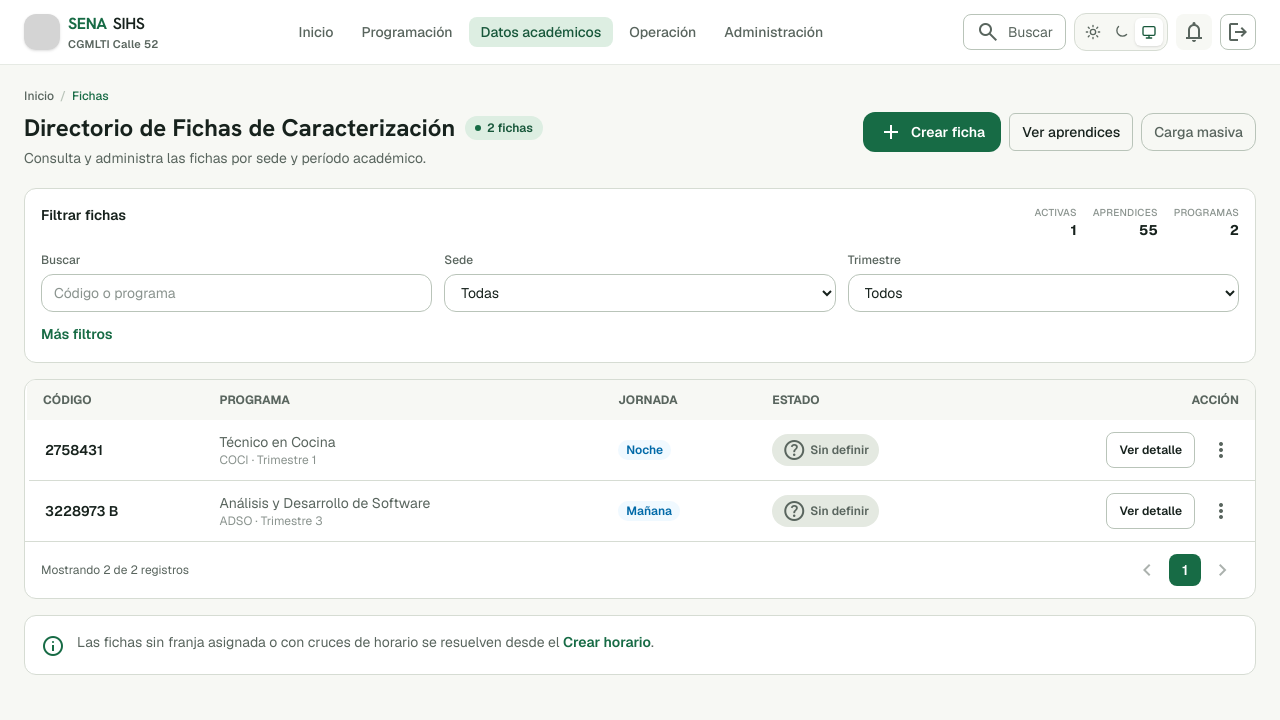
Test: Fichas › muestra instructores/temas/ambientes derivados de los horarios de la ficha
Click the text "3228973 B".
click(115, 511)  # box [27,480,204,541]
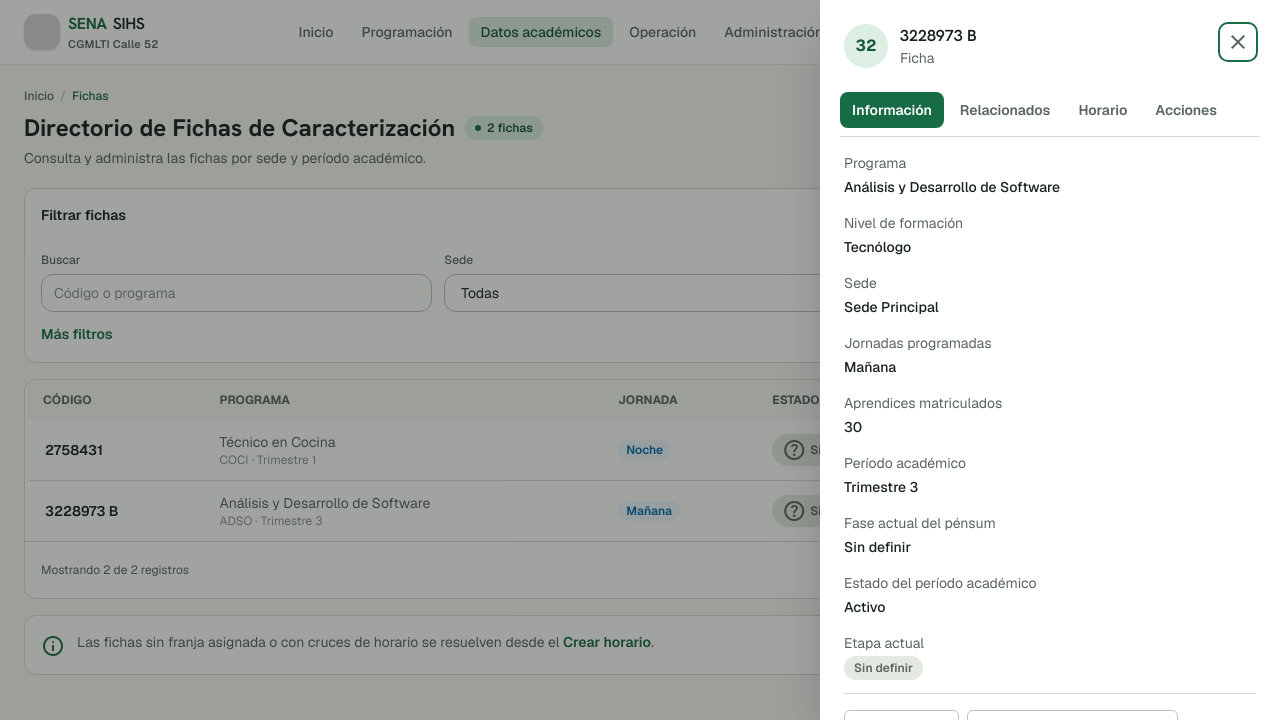
Click the tab "Relacionados".
click(1005, 110)  # box [948,92,1062,128]
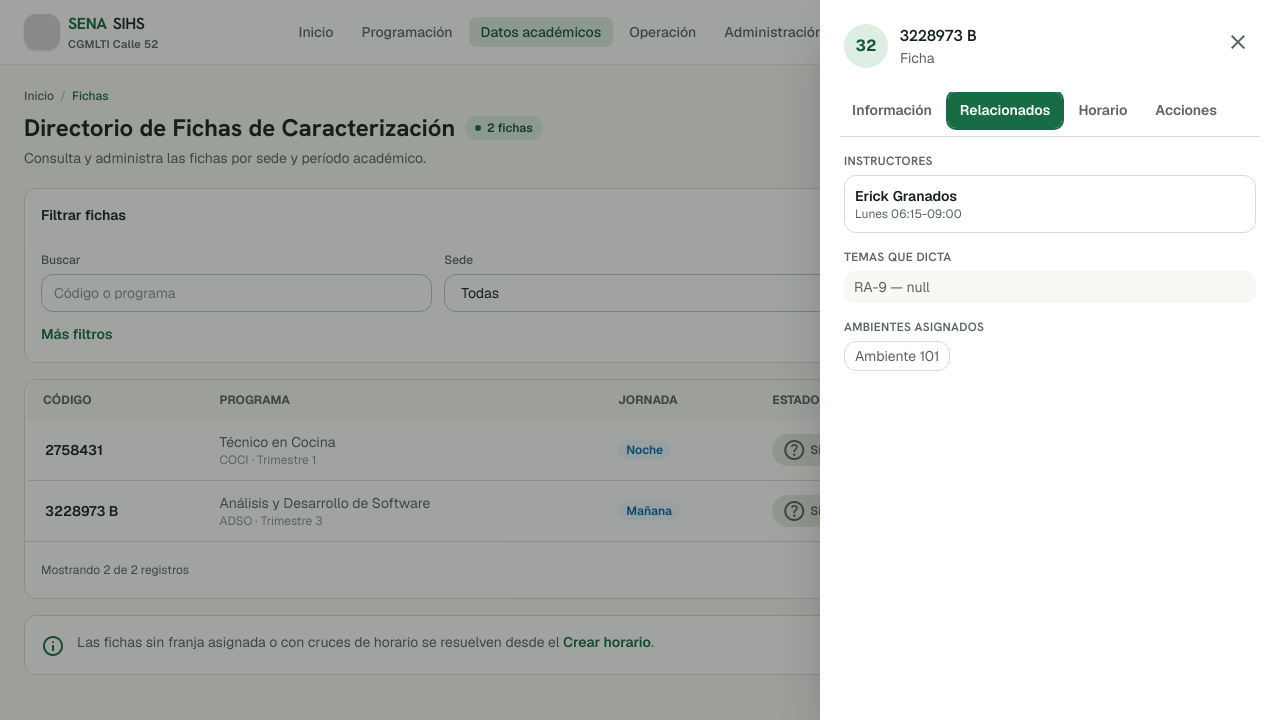
Expected: the heading "Instructores" is shown, [844,153,933,169]
Expected: the heading "Temas que dicta" is shown, [844,249,951,265]
Expected: the heading "Ambientes asignados" is shown, [844,319,984,335]
